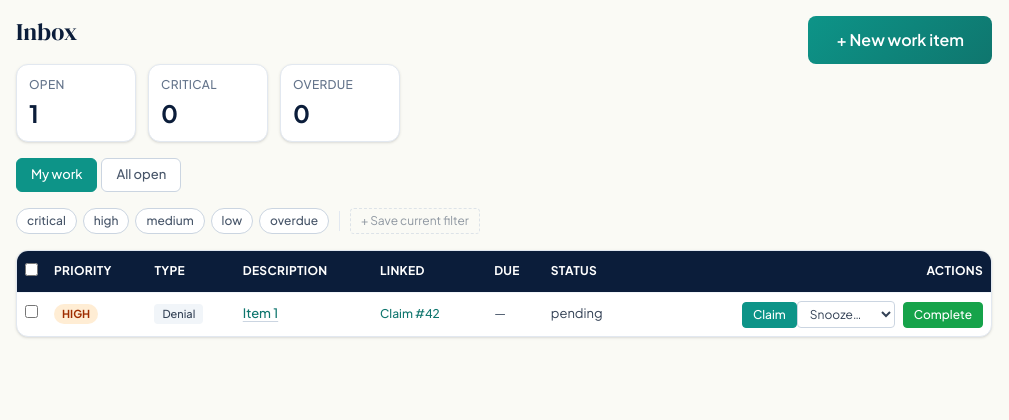
Test case: InboxPage › bulk actions › clears selection after a successful bulk action
The image size is (1009, 420).
Click the checkbox named "Select item 1".
click(32, 312)  # box [25,305,38,318]
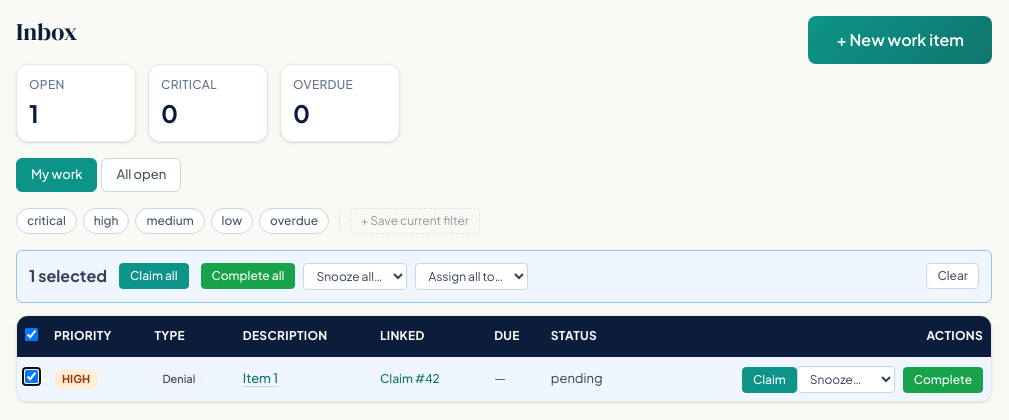
Click the button "Complete all".
click(248, 276)  # box [200,263,295,289]
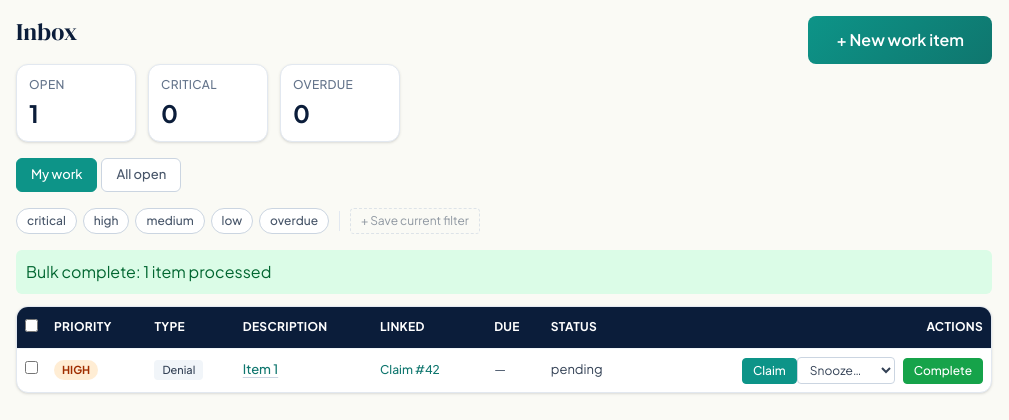
Expected: the text "selected" is gone
